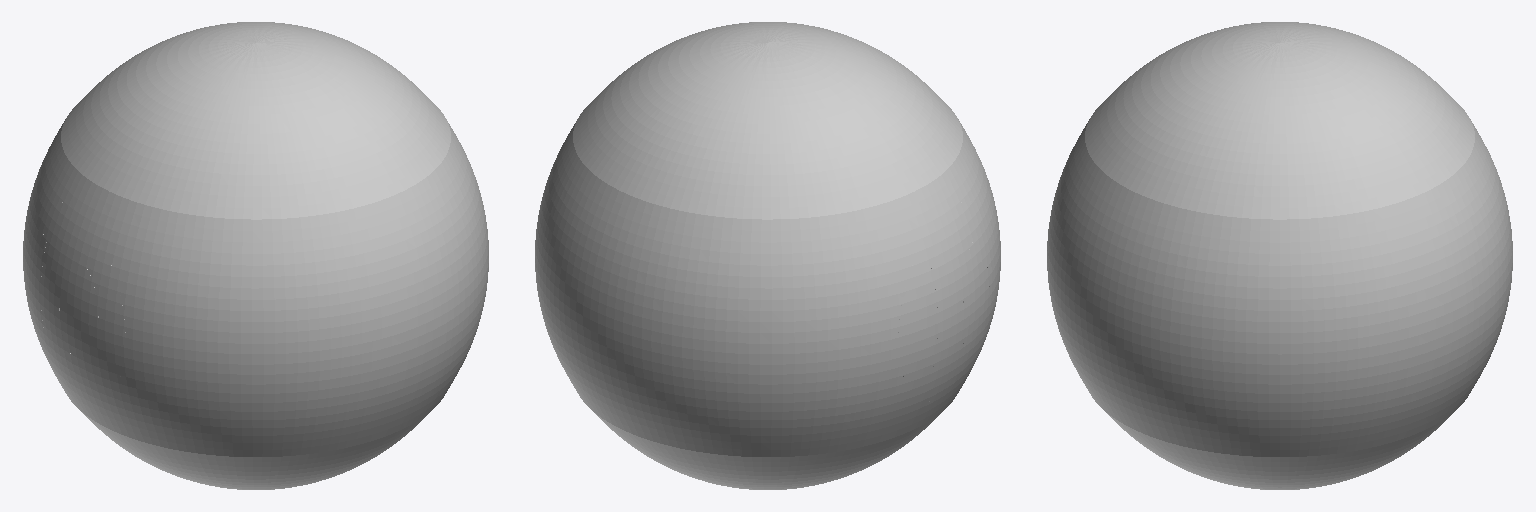
File: ball10.obj
The picture shows the model from 3 angles: view 1: azimuth 30°, elevation 25°; view 2: azimuth 150°, elevation 25°; view 3: azimuth 270°, elevation 25°; orthographic projection.
Visible parts, largest first — view 1: c_Sphere.001, w_Sphere, Sphere_Sphere.002, Text_Text.001; view 2: c_Sphere.001, w_Sphere, Sphere_Sphere.002, Text_Text.001; view 3: c_Sphere.001, w_Sphere.
Part boxes in pixels (x1,y1,x2,y2): c_Sphere.001: (23, 119, 488, 456); w_Sphere: (61, 22, 450, 489); Sphere_Sphere.002: (24, 201, 125, 401); Text_Text.001: (33, 230, 98, 377); c_Sphere.001: (535, 119, 1000, 456); w_Sphere: (573, 22, 962, 489); Sphere_Sphere.002: (898, 201, 999, 401); Text_Text.001: (930, 235, 995, 381); c_Sphere.001: (1047, 119, 1512, 456); w_Sphere: (1085, 22, 1474, 489).
Size of the model in its own units: 0.1086 by 0.1097 by 0.1086.